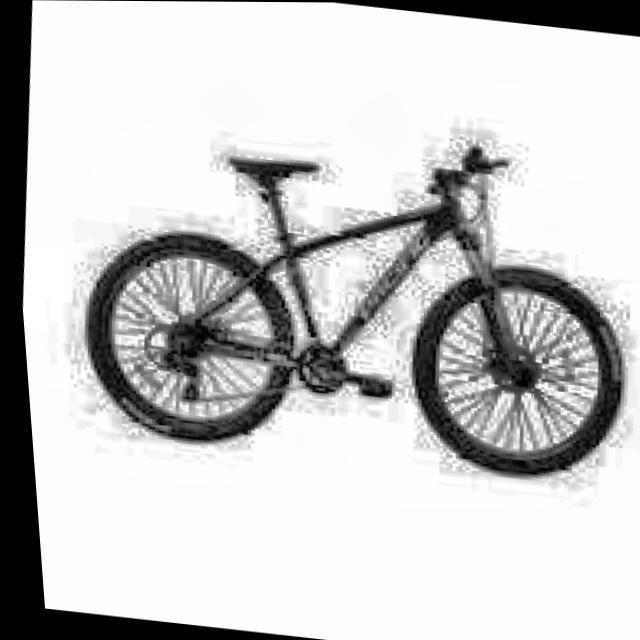motorcycle: (47, 99, 640, 510)
